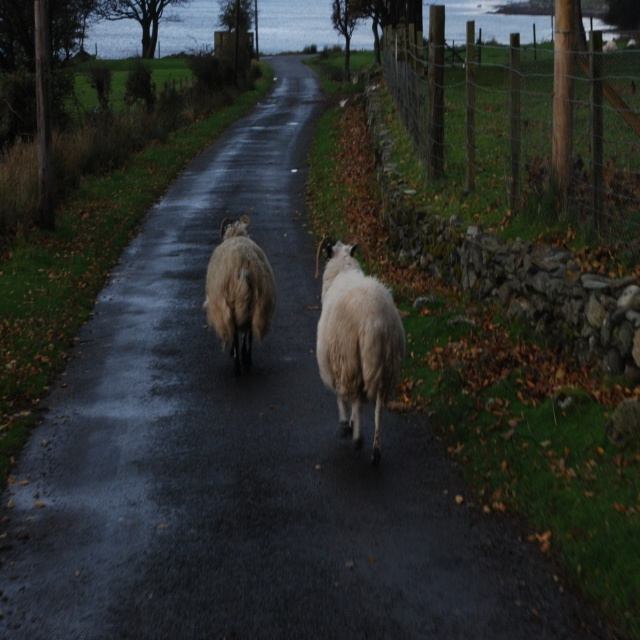Sheep: (315, 236, 406, 461), (200, 213, 277, 363)
